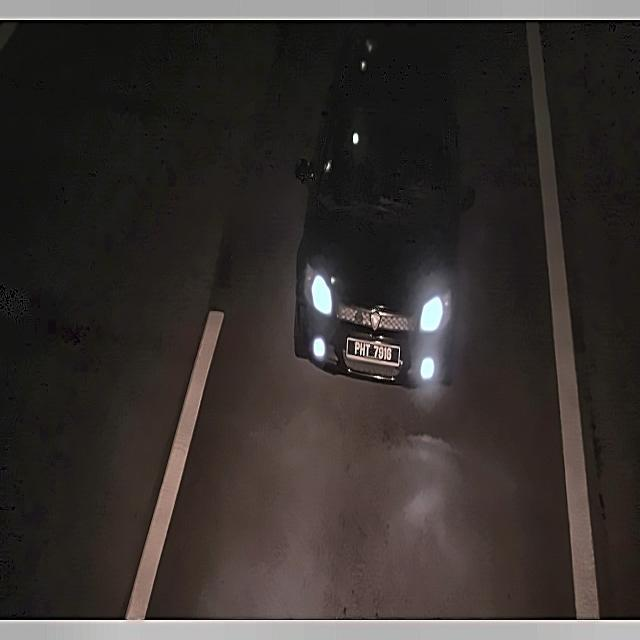car: (341, 332, 406, 370)
